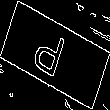P_SW: (35, 24, 75, 86)
